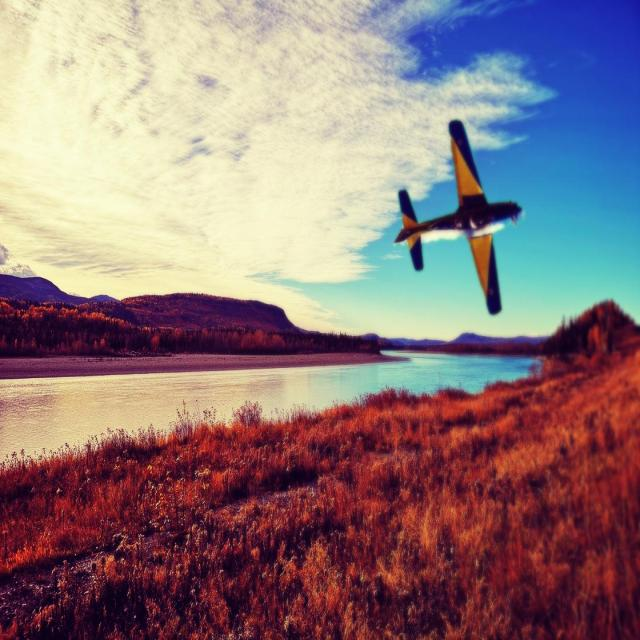airplane: (393, 118, 523, 315)
